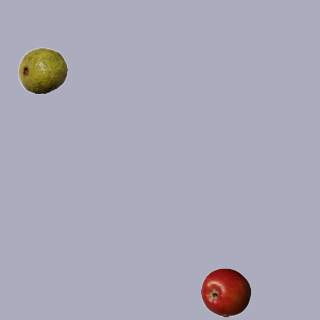Apple Braeburn: (200, 267, 250, 317)
Guava: (17, 45, 67, 95)
